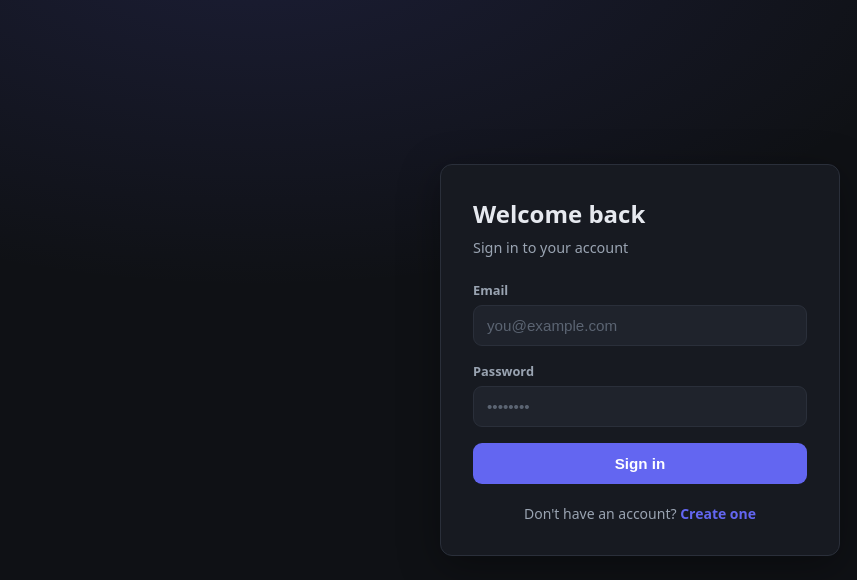
MFA login and safety › keeps the user unauthenticated until MFA verification succeeds
Expected: the heading "Welcome back" is shown, [473,197,645,230]
Type "user@example.com" into the field labelled "Email".
click(640, 326); type("user@example.com")  # box [473,305,807,346]
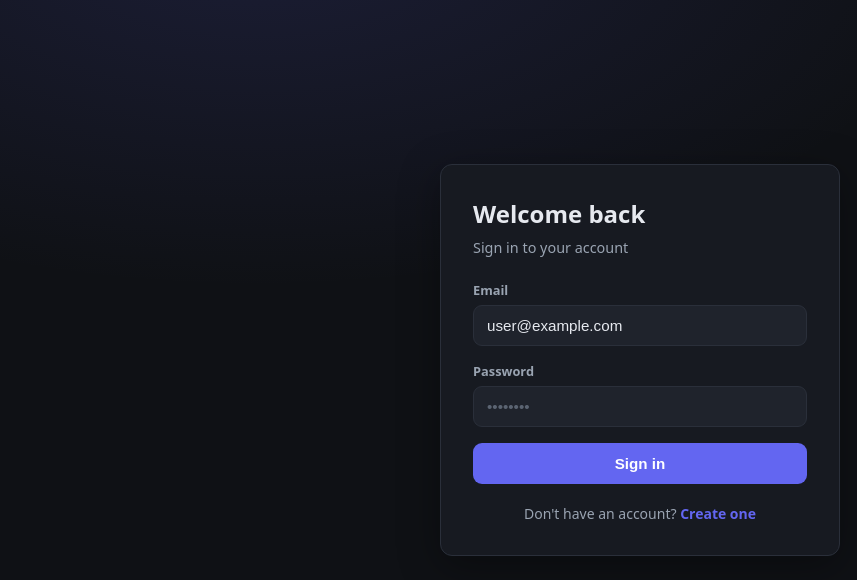
Type "password" into the password field labelled "Password".
click(640, 406); type("password")  # box [473,386,807,427]
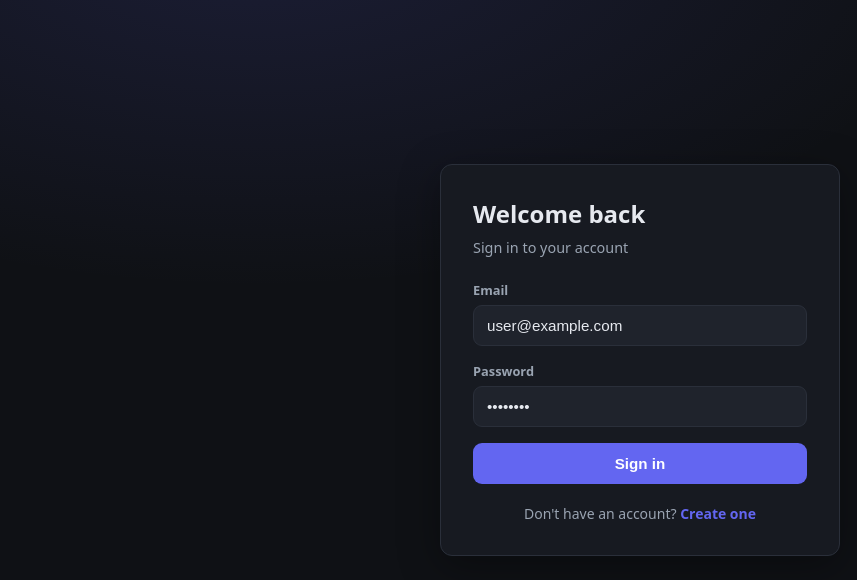
Click the button "Sign in".
click(640, 464)  # box [473,443,807,484]
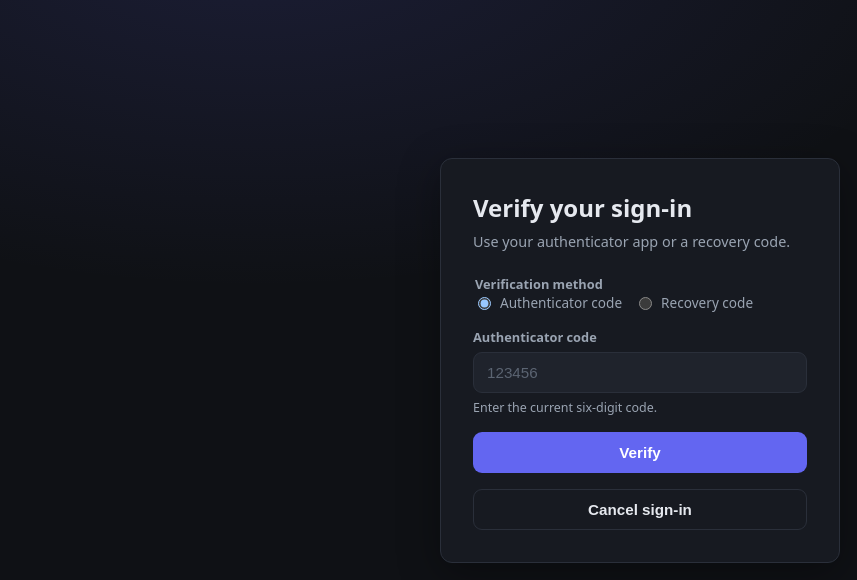
Now the heading "Verify your sign-in" is shown, box [473,190,692,224]
